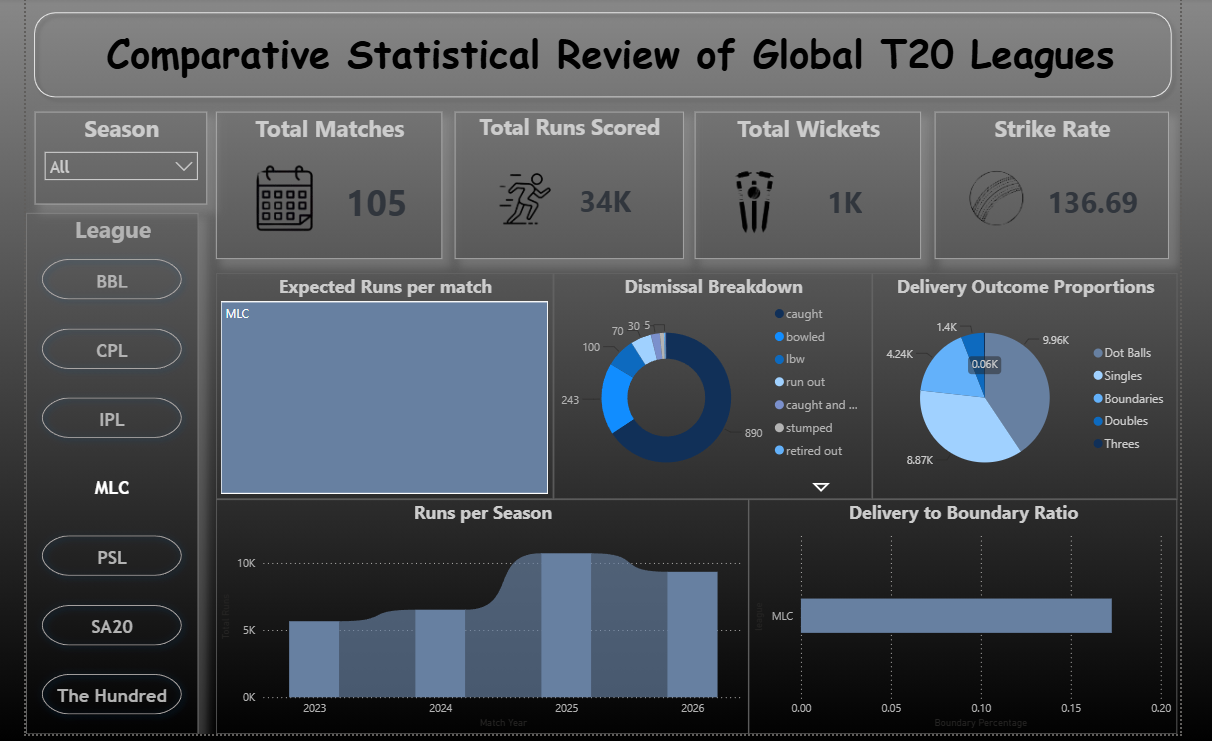

This screenshot's page, from the dashboard's own definition file:
{"tool":"powerbi","page":{"name":"Page 1","canvas":[1285,820],"ordinal":0},"visuals":[{"type":"cardVisual","title":"Total Matches","fields":{"Data":["public matches.Total Matches"]},"box":[211.7,126.7,252.1,164.3],"z":0},{"type":"advancedSlicerVisual","title":"League","fields":{"Values":["public matches.league"]},"box":[9.7,239.5,192.2,580.7],"z":1000},{"type":"cardVisual","title":"Total Wickets","fields":{"Data":["public deliveries.Wickets Taken"]},"box":[745.1,126.7,252.1,164.3],"z":2000},{"type":"slicer","title":"Season","fields":{"Values":["public matches.Match Year"]},"box":[9.7,126.7,192.2,103.1],"z":3000},{"type":"cardVisual","title":"Total Runs Scored","fields":{"Data":["Sum(public deliveries.runs_total)"]},"box":[477.7,126.7,254.9,164.3],"z":4000},{"type":"treemap","title":"Expected Runs per match","fields":{"Group":["public matches.league"],"Values":["public deliveries.Average Runs per match"]},"box":[211.7,306.4,376,252.1],"z":5000},{"type":"ribbonChart","title":"Runs per Season","fields":{"Category":["public matches.Match Year"],"Y":["public deliveries.Total Runs"]},"box":[211.7,558.5,593.3,261.8],"z":6000},{"type":"donutChart","title":"Dismissal Breakdown","fields":{"Y":["CountNonNull(public deliveries.dismissal_kind)"],"Category":["public deliveries.dismissal_kind"]},"box":[587.7,306.4,355.1,252.1],"z":7000},{"type":"pieChart","title":"Delivery Outcome Proportions","fields":{"Category":["public deliveries.Run_category"],"Y":["CountNonNull(public deliveries.Run_category)"]},"box":[942.8,306.4,339.8,252.1],"z":8000},{"type":"clusteredBarChart","title":"Delivery to Boundary Ratio","fields":{"Y":["public matches.Boundary Percentage"],"Category":["public matches.league"]},"box":[805,558.5,477.7,261.8],"z":9000},{"type":"shape","box":[0,7,1285.4,112.8],"z":10000},{"type":"textbox","box":[20.9,26.5,1242.3,85],"z":11000},{"type":"cardVisual","title":"Strike Rate","fields":{"Data":["public deliveries.Strike Rate"]},"box":[1012.5,126.7,260.4,164.3],"z":12000}]}

Visuals, with their boxes on the page's 1285x820 design canvas (x1, y1, x2, y2). These are canvas units, not pixel positions in the 1212x741 screenshot, which may show the page scaled, cropped or inside an application window:
"Total Matches" cardVisual: {"x1": 212, "y1": 127, "x2": 464, "y2": 291}
"League" advancedSlicerVisual: {"x1": 10, "y1": 240, "x2": 202, "y2": 820}
"Total Wickets" cardVisual: {"x1": 745, "y1": 127, "x2": 997, "y2": 291}
"Season" slicer: {"x1": 10, "y1": 127, "x2": 202, "y2": 230}
"Total Runs Scored" cardVisual: {"x1": 478, "y1": 127, "x2": 733, "y2": 291}
"Expected Runs per match" treemap: {"x1": 212, "y1": 306, "x2": 588, "y2": 558}
"Runs per Season" ribbonChart: {"x1": 212, "y1": 558, "x2": 805, "y2": 820}
"Dismissal Breakdown" donutChart: {"x1": 588, "y1": 306, "x2": 943, "y2": 558}
"Delivery Outcome Proportions" pieChart: {"x1": 943, "y1": 306, "x2": 1283, "y2": 558}
"Delivery to Boundary Ratio" clusteredBarChart: {"x1": 805, "y1": 558, "x2": 1283, "y2": 820}
shape: {"x1": 0, "y1": 7, "x2": 1285, "y2": 120}
textbox: {"x1": 21, "y1": 26, "x2": 1263, "y2": 112}
"Strike Rate" cardVisual: {"x1": 1012, "y1": 127, "x2": 1273, "y2": 291}
